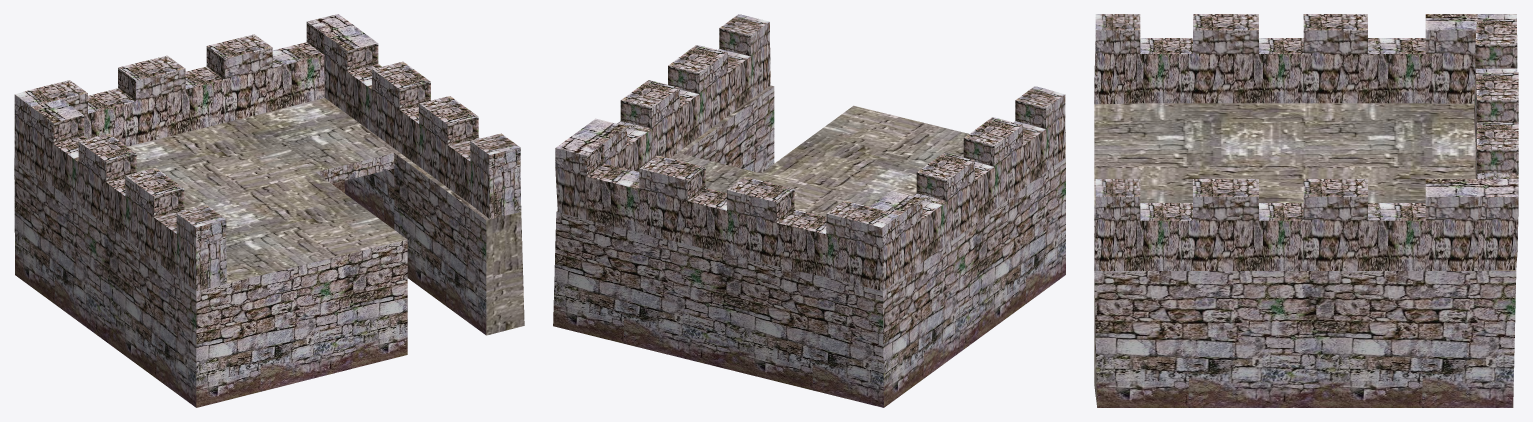
The picture shows the model from 3 angles, left to right: view 1: azimuth 30°, elevation 25°; view 2: azimuth 150°, elevation 25°; view 3: azimuth 270°, elevation 25°; orthographic projection. The views are drawn at different scales.
Parts seen in each view (by area): view 1: Box28; view 2: Box28; view 3: Box28.
Part boxes in pixels (x1,y1,x2,y2): Box28: (14, 14, 524, 407); Box28: (553, 14, 1065, 407); Box28: (1094, 14, 1518, 407).
Bounding box in the file's own units: 209 × 110 × 201.
